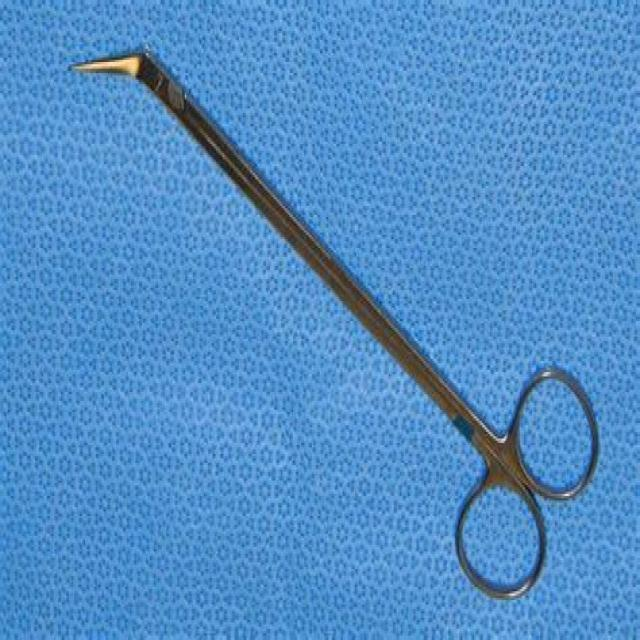Potts: (66, 44, 604, 607)
